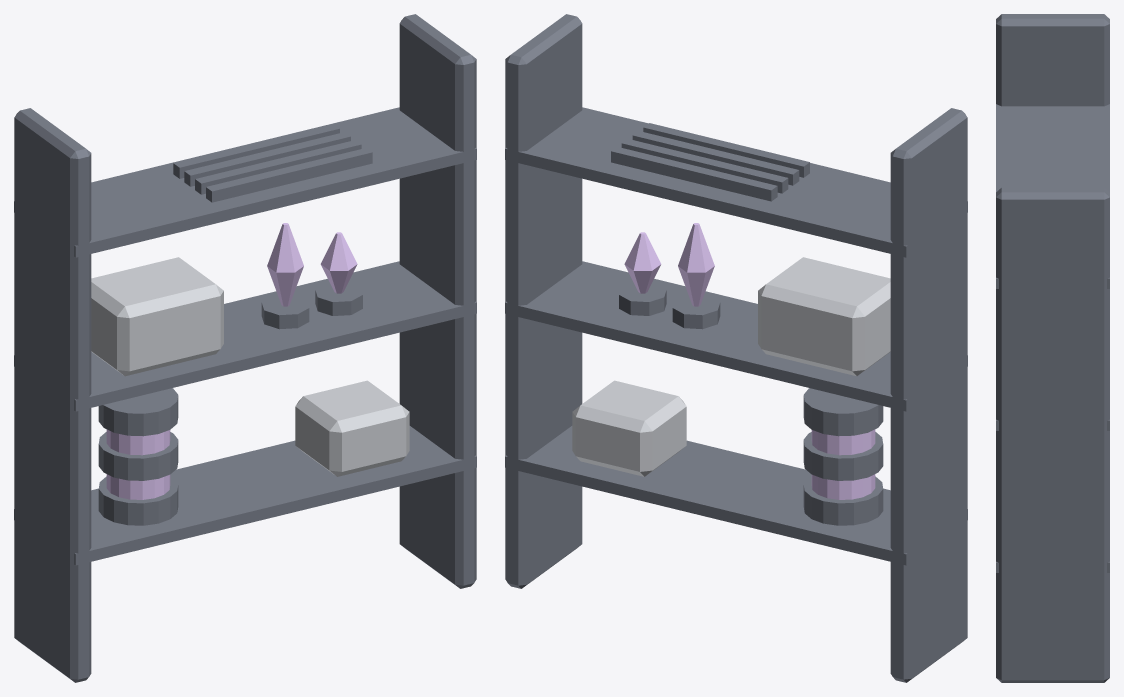
Rendered from PR_Estante_Ferramentas.fbx.
3 views of the same model, side by side, from view 1: azimuth 30°, elevation 25°; view 2: azimuth 150°, elevation 25°; view 3: azimuth 270°, elevation 25° (orthographic). The views are drawn at different scales.
Parts seen in each view (by area): view 1: PR_Estante_Ferramentas; view 2: PR_Estante_Ferramentas; view 3: PR_Estante_Ferramentas.
Boxes of the visible parts, bbox=[...] form: PR_Estante_Ferramentas: bbox=[14, 14, 476, 682]; PR_Estante_Ferramentas: bbox=[505, 14, 967, 682]; PR_Estante_Ferramentas: bbox=[996, 14, 1109, 682].
Bounding box in the file's own units: 1.52 × 1.9 × 0.4.
